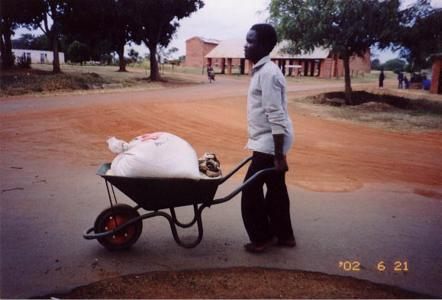person: (239, 24, 300, 256)
